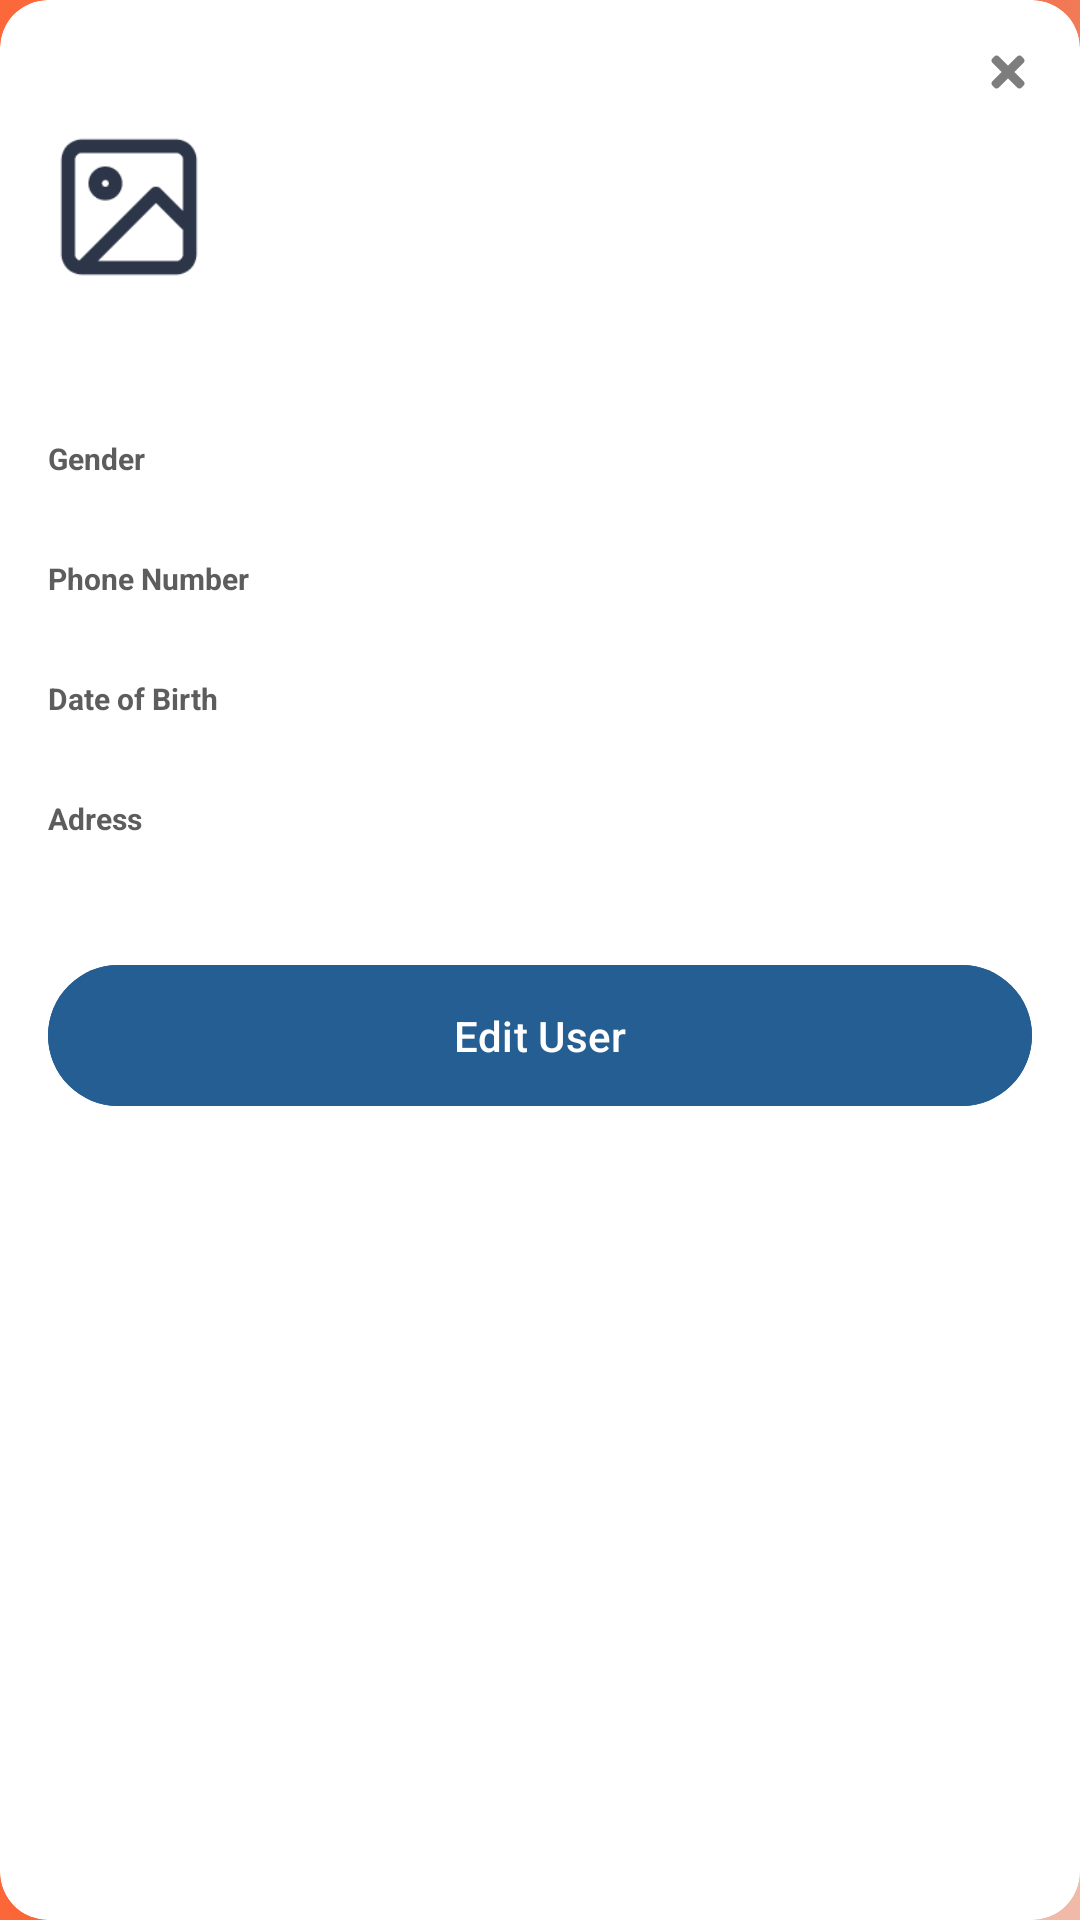

Named icons in this screenshot (1080×1920) and their centers, point (x, y):
close: point (1008, 72)
